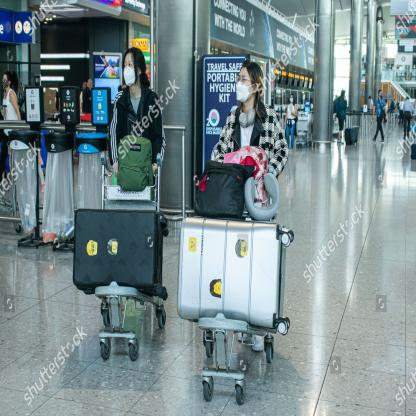airport-trolley: (178, 166, 289, 405), (72, 160, 168, 364)
